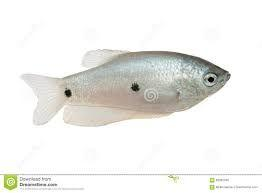Gourami: (20, 48, 230, 128)
